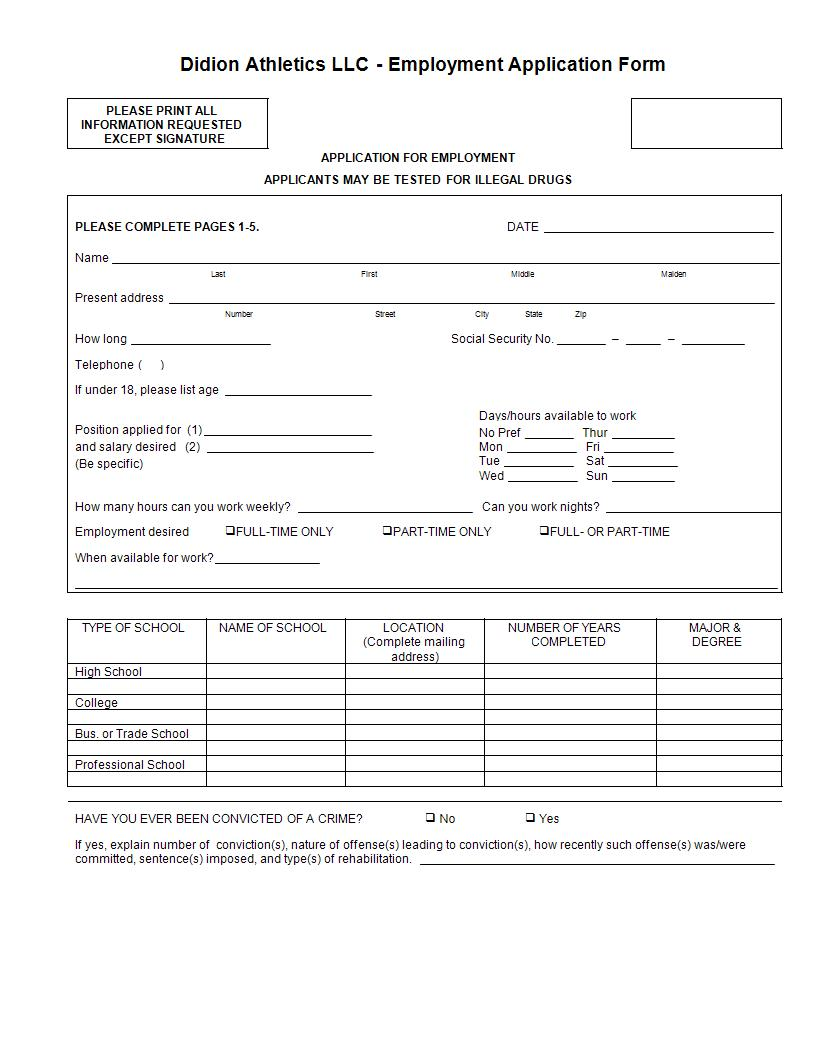table: (69, 196, 783, 593), (68, 620, 781, 787)
